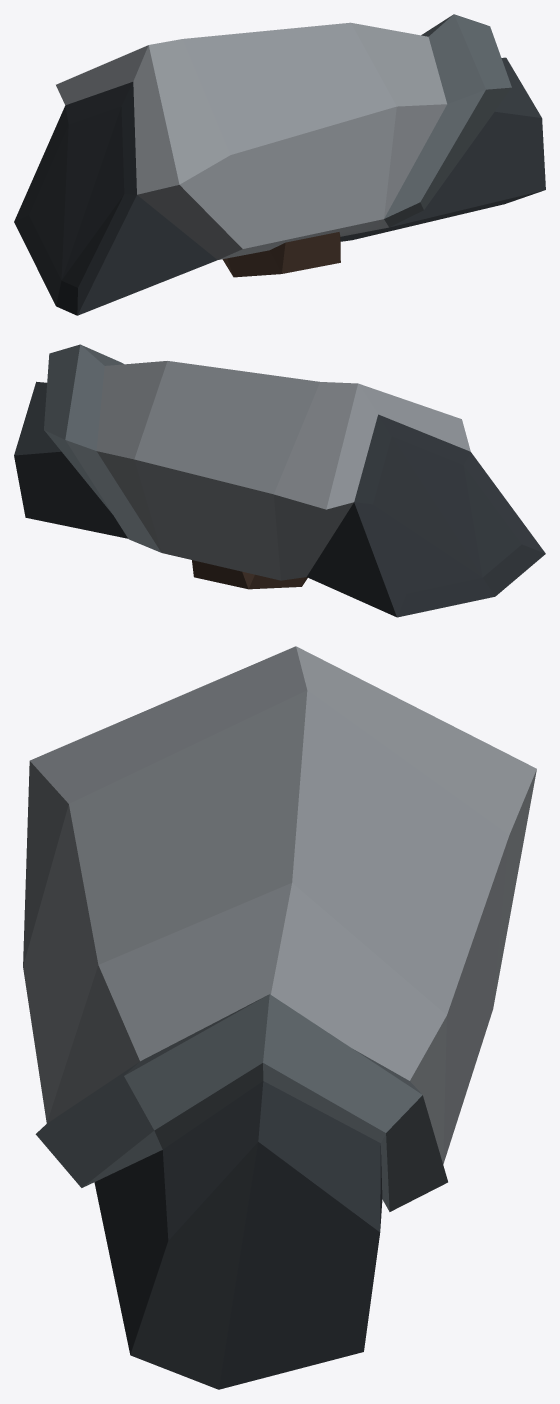
Rendered from Chr_ArmUpperLeft_Female_06_Static.fbx.
3 renders of one model, top to bottom at view 1: azimuth 30°, elevation 25°; view 2: azimuth 150°, elevation 25°; view 3: azimuth 270°, elevation 25°, orthographic. The views are drawn at different scales.
Parts seen in each view (by area): view 1: Chr_ArmUpperLeft_Female_06_Static; view 2: Chr_ArmUpperLeft_Female_06_Static; view 3: Chr_ArmUpperLeft_Female_06_Static.
Boxes of the visible parts, bbox=[...] form: Chr_ArmUpperLeft_Female_06_Static: bbox=[14, 14, 545, 315]; Chr_ArmUpperLeft_Female_06_Static: bbox=[14, 344, 545, 617]; Chr_ArmUpperLeft_Female_06_Static: bbox=[23, 646, 536, 1389].
Bounding box in the file's own units: 0.3535 × 0.168 × 0.1671.
